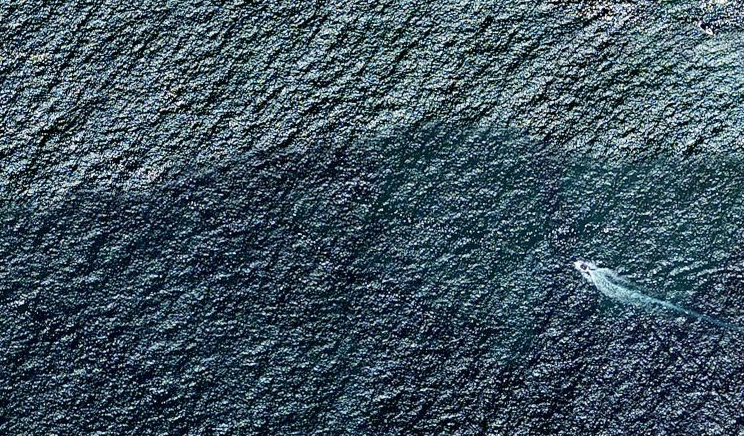ship: (571, 257, 601, 283)
